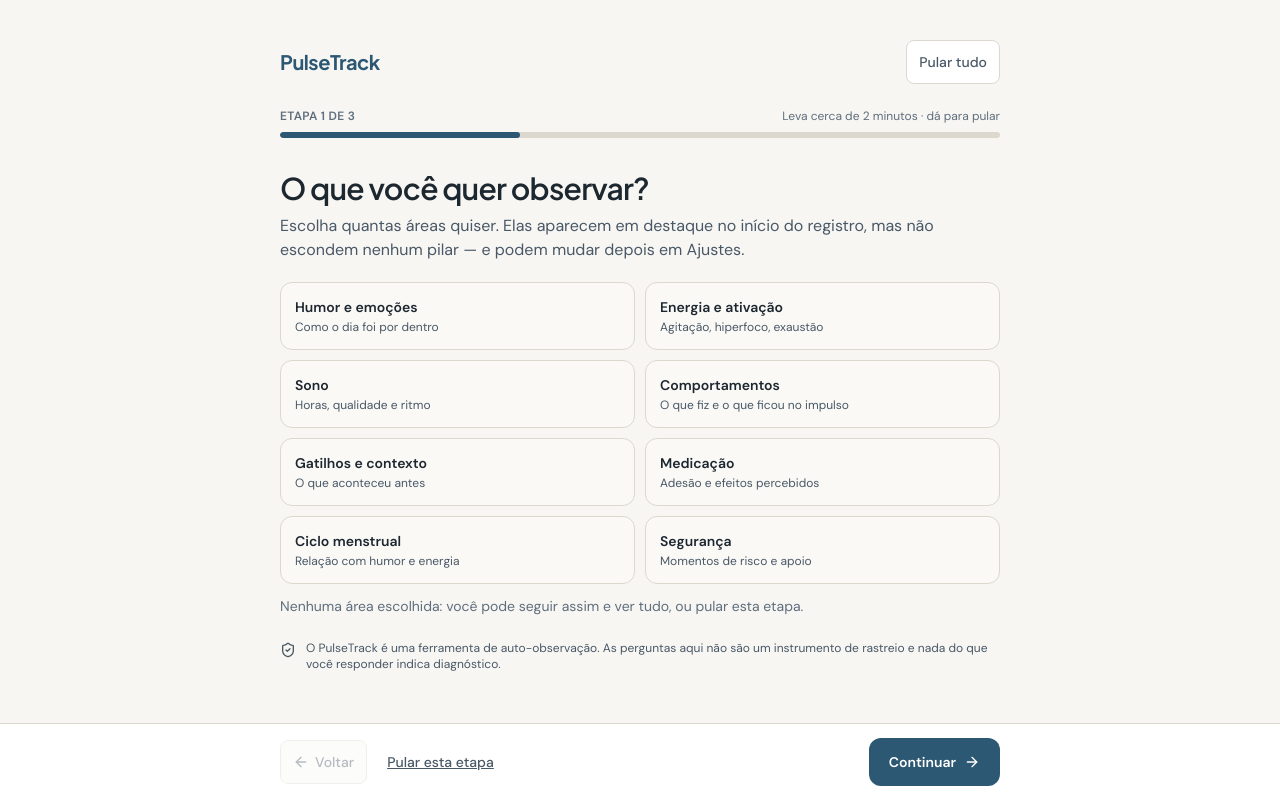
Test case: Onboarding › salva a área de foco no clique, sem depender de continuar
Click the button "Humor e emoções Como o dia foi por dentro".
click(356, 307)  # box x1=280 y1=282 x2=635 y2=350
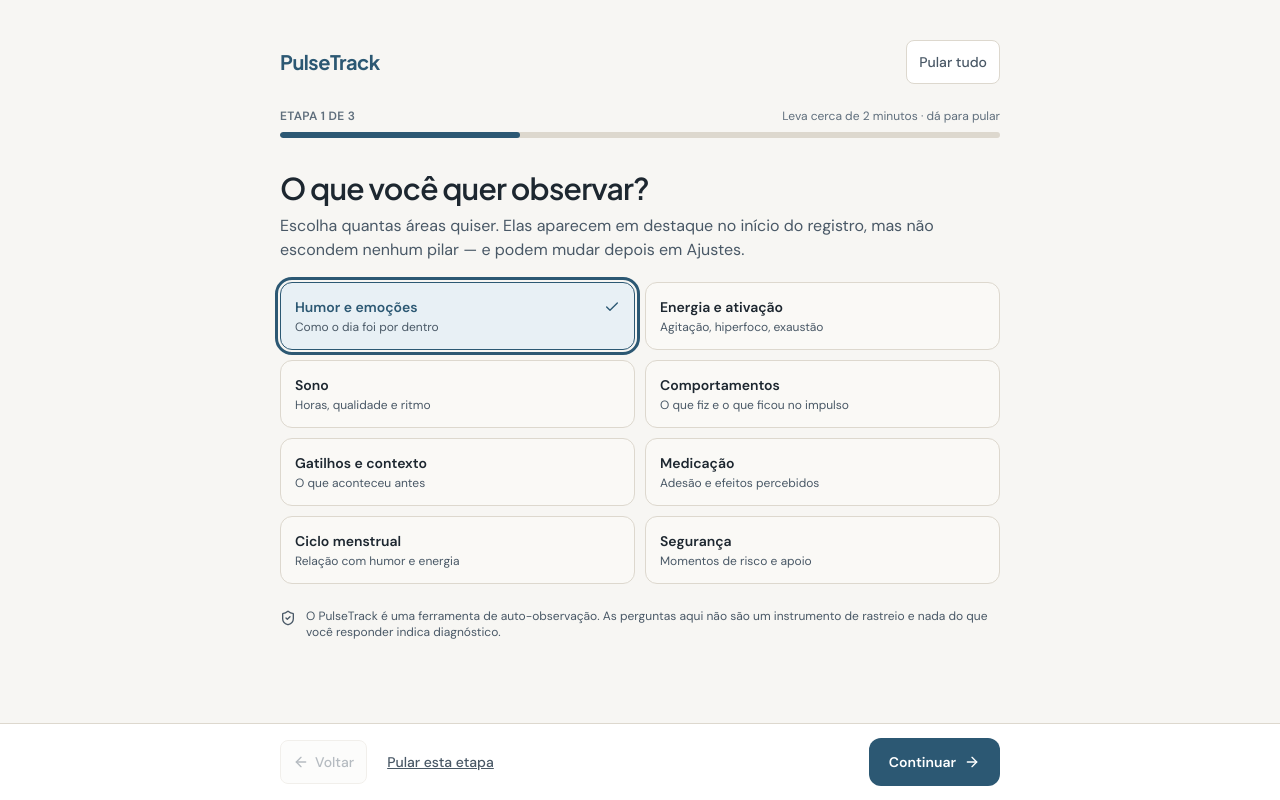
Click the button "Continuar".
click(934, 762)  # box x1=869 y1=738 x2=1000 y2=786
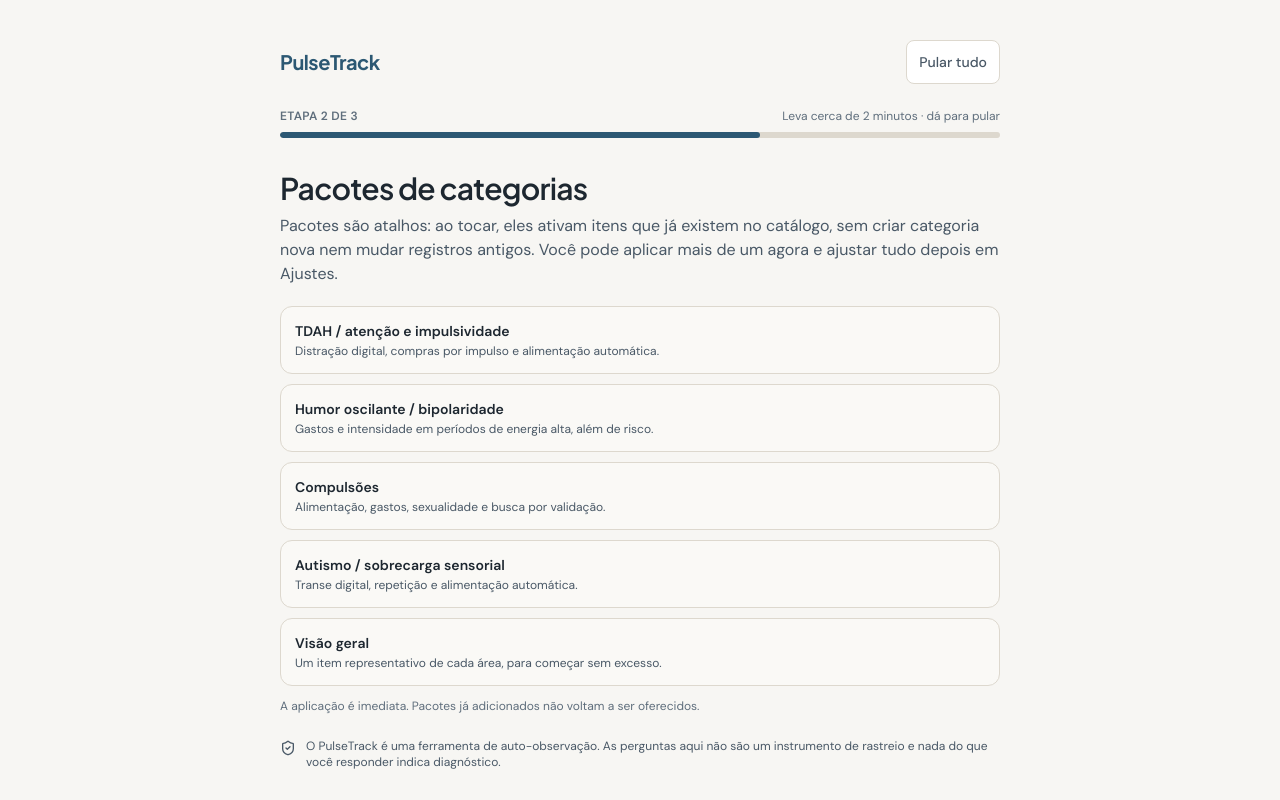
expect the heading "Pacotes de categorias" is shown: met, box x1=280 y1=169 x2=588 y2=207
